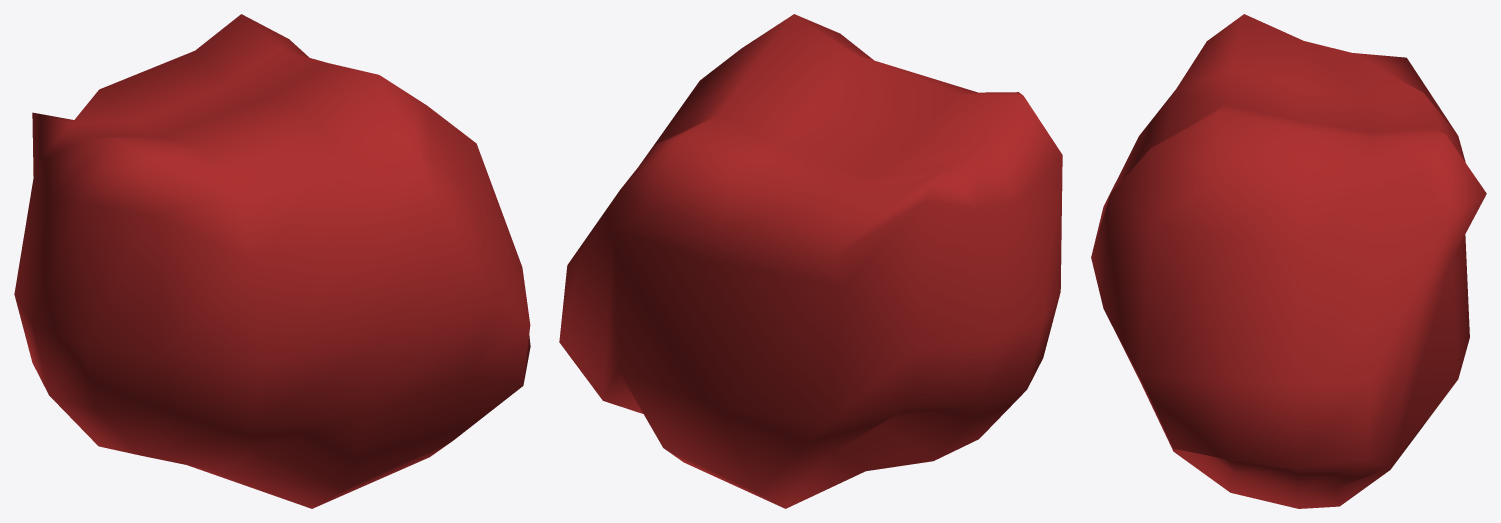
The model's file is placeholder_rock.fbx.
3 renders of one model, left to right at view 1: azimuth 30°, elevation 25°; view 2: azimuth 150°, elevation 25°; view 3: azimuth 270°, elevation 25°, orthographic. The views are drawn at different scales.
Visible parts, largest first — view 1: pCube1; view 2: pCube1; view 3: pCube1.
Boxes of the visible parts, left/top/right/bottom form: pCube1: left=14, top=14, right=530, bottom=508; pCube1: left=559, top=14, right=1062, bottom=508; pCube1: left=1091, top=14, right=1486, bottom=508.
Bounding box in the file's own units: 58.82 × 52.46 × 47.91.
